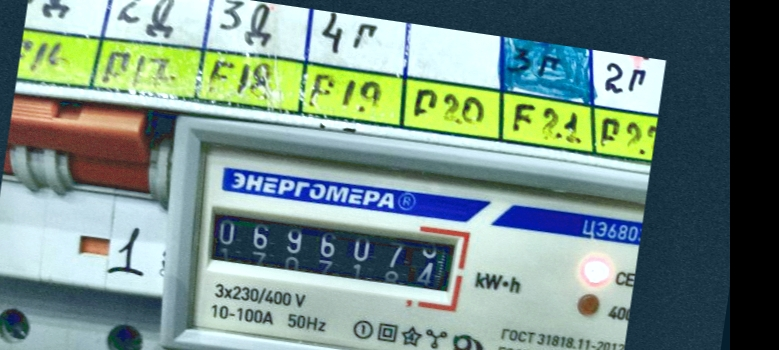0: (349, 235, 371, 267), (215, 220, 236, 250)
4: (413, 260, 434, 291)
6: (316, 231, 337, 262), (249, 224, 270, 254)
7: (382, 241, 405, 274)
9: (281, 228, 303, 259)
screen: (189, 193, 475, 316)
